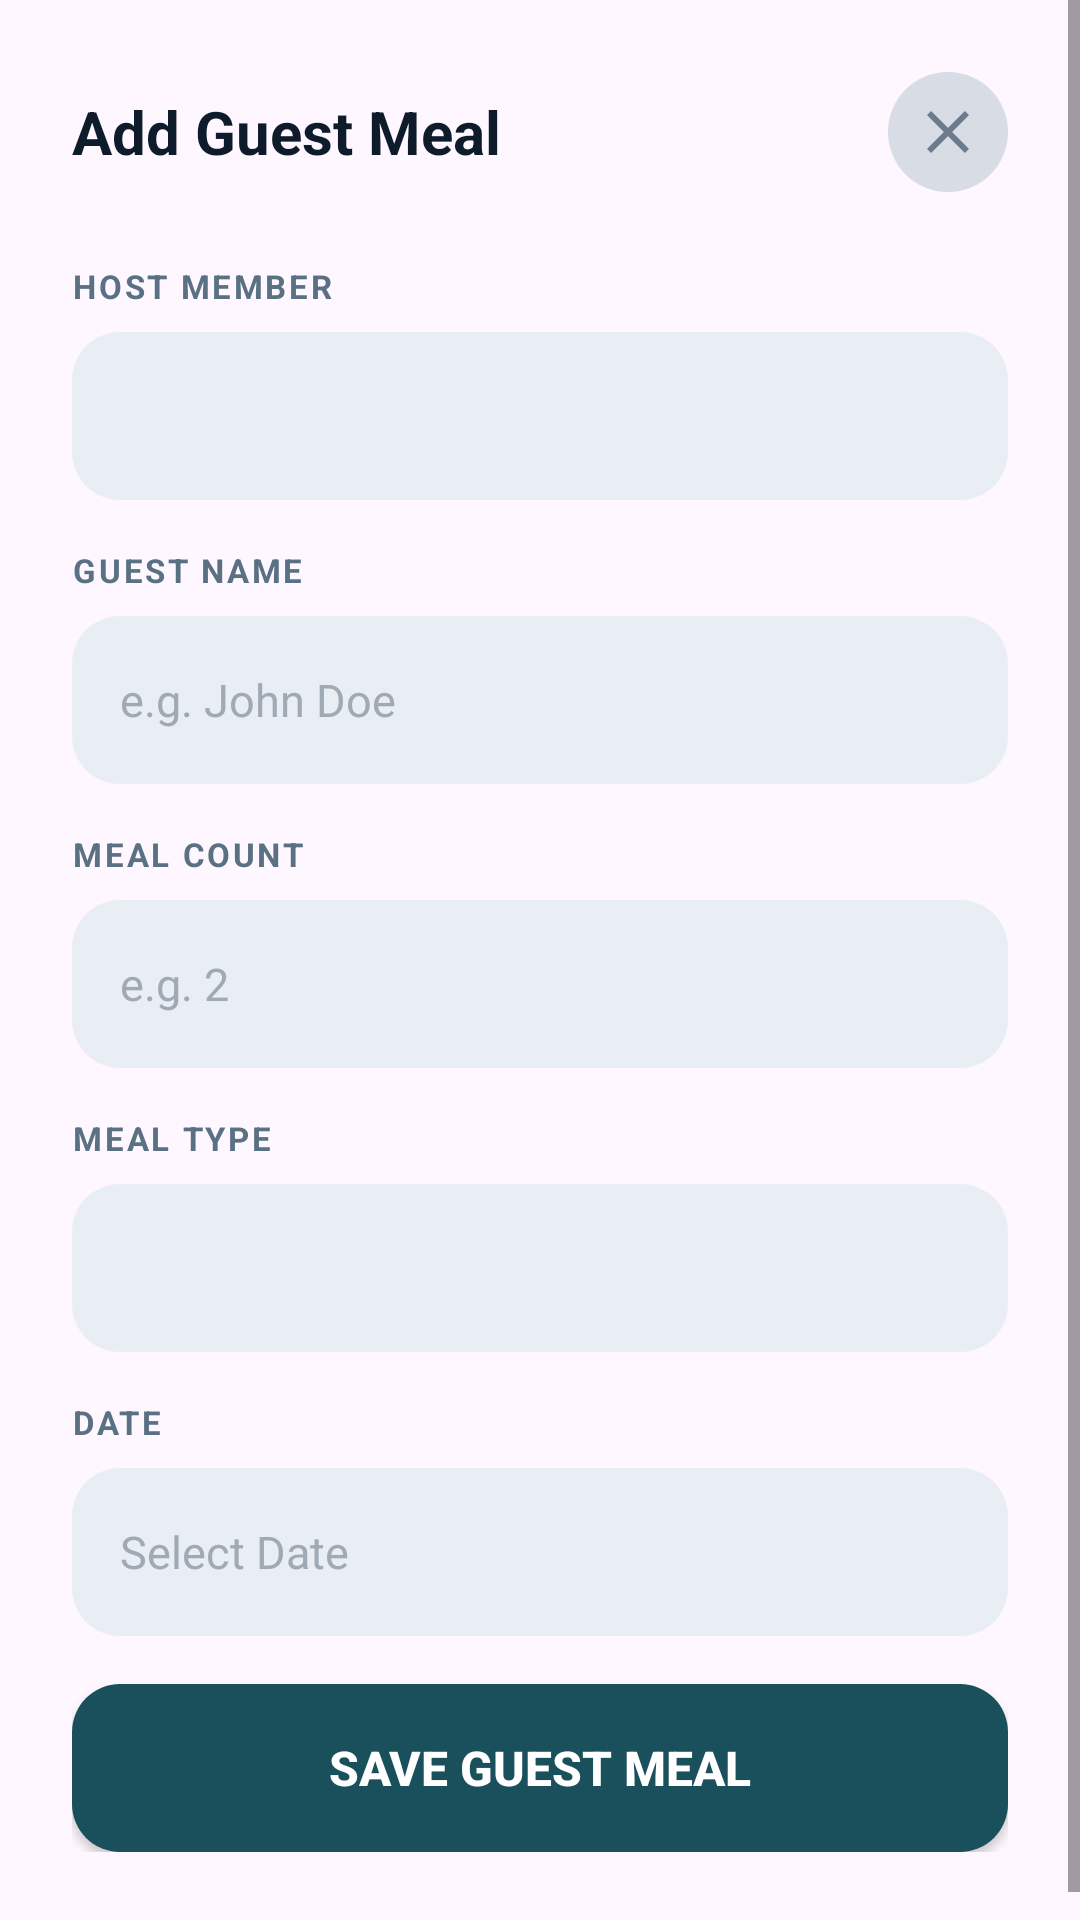

Icon click points for this 1080 x 1920 phone screenshot, format (x,y):
Close: (948,132)
